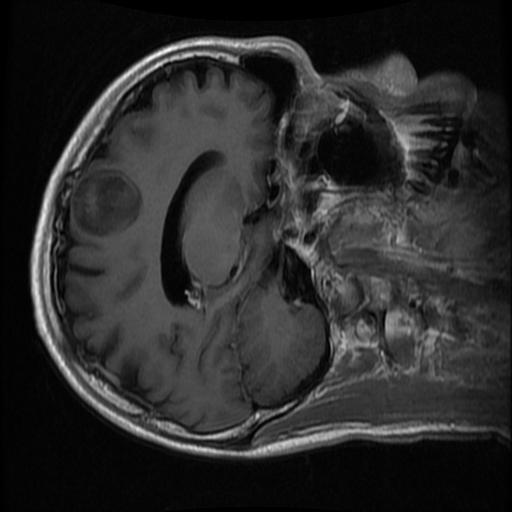glioma: (71, 171, 141, 237)
